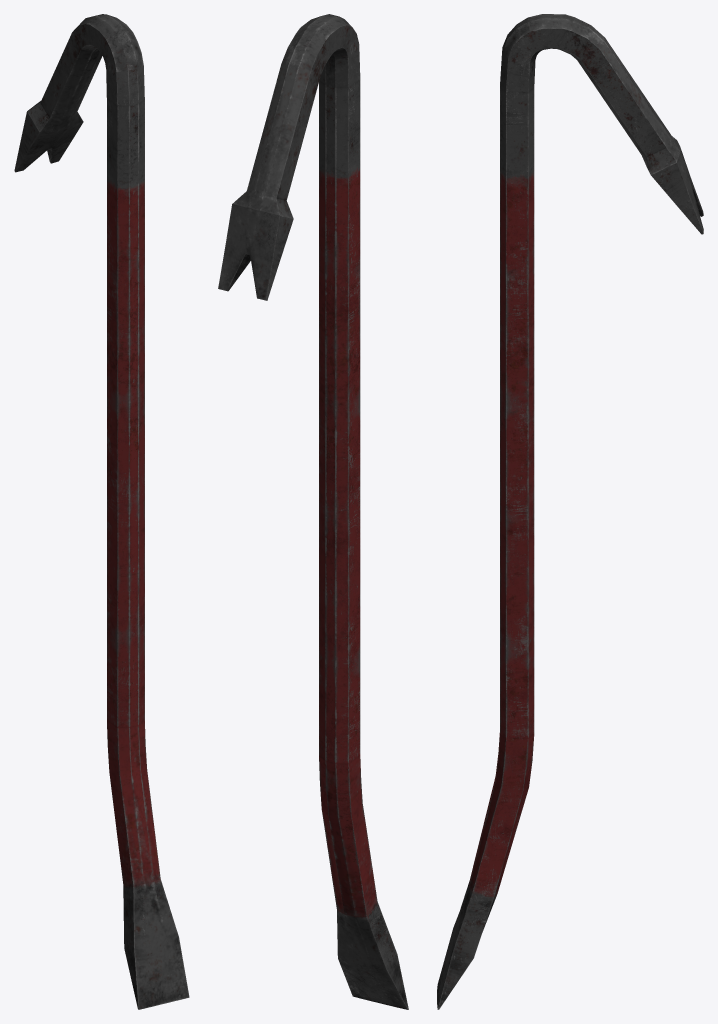
File: crowbar.obj
3 renders of one model, left to right at view 1: azimuth 30°, elevation 25°; view 2: azimuth 150°, elevation 25°; view 3: azimuth 270°, elevation 25°, orthographic. The views are drawn at different scales.
Visible parts, largest first — view 1: Cube_meshId0_name; view 2: Cube_meshId0_name; view 3: Cube_meshId0_name.
Part boxes in pixels (bbox=[...]): Cube_meshId0_name: bbox=[14, 14, 189, 1009]; Cube_meshId0_name: bbox=[218, 14, 408, 1009]; Cube_meshId0_name: bbox=[437, 14, 703, 1009].
Size of the model in its own units: 0.2258 by 4 by 0.9858.
